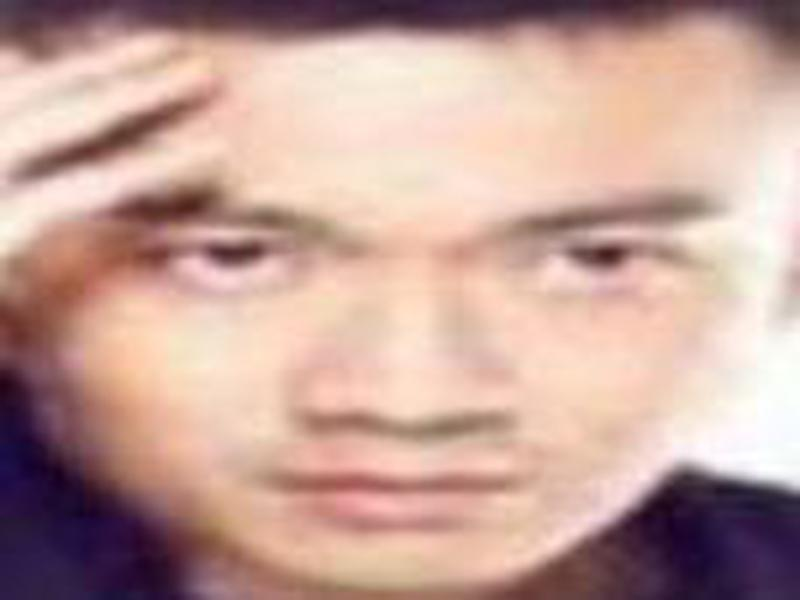without_mask: (10, 89, 791, 589)
